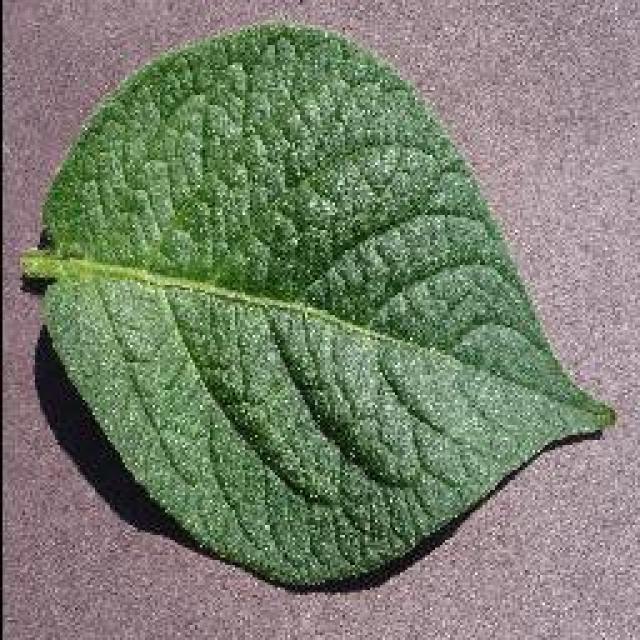Potato___healthy: (12, 18, 618, 595)
